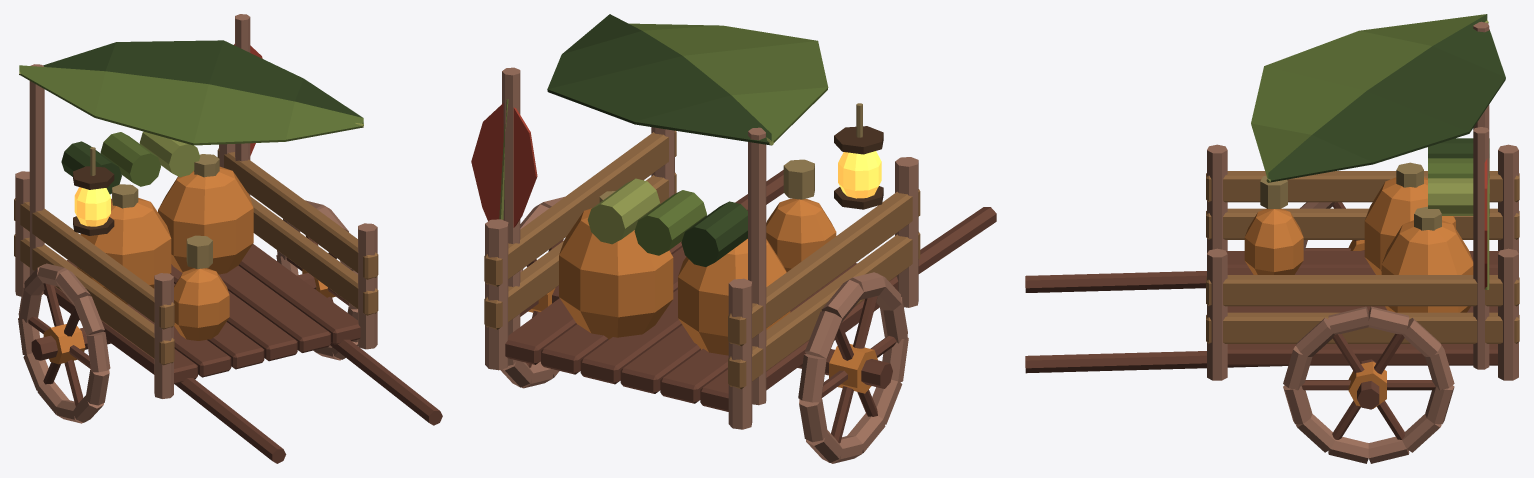
3 views of the same model, side by side, from view 1: azimuth 30°, elevation 25°; view 2: azimuth 150°, elevation 25°; view 3: azimuth 270°, elevation 25° (orthographic). The views are drawn at different scales.
Parts seen in each view (by area): view 1: merchant-cart; view 2: merchant-cart; view 3: merchant-cart.
Part boxes in pixels (x1,y1,x2,y2): merchant-cart: [14, 14, 442, 463]; merchant-cart: [471, 14, 996, 463]; merchant-cart: [1025, 14, 1519, 463].
Bounding box in the file's own units: 3.2 × 3.01 × 4.18.
